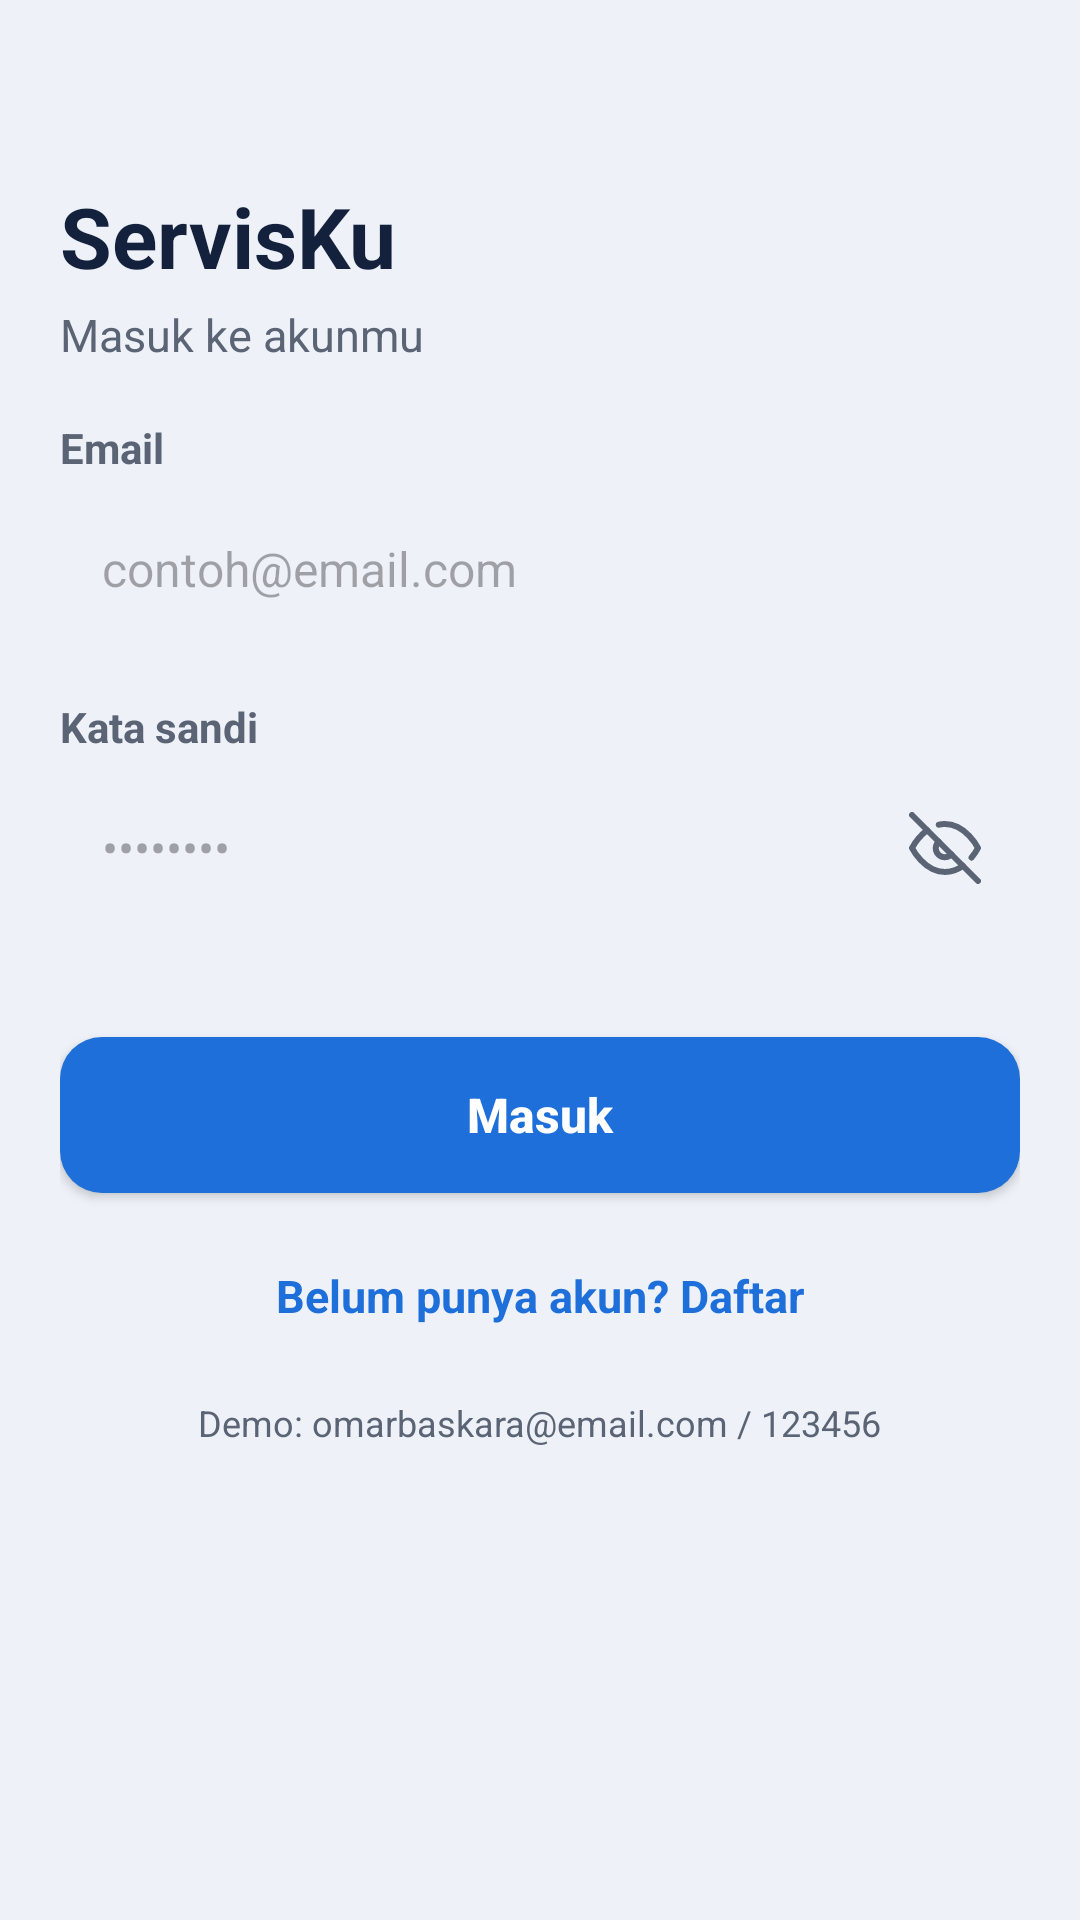

Where to tap for icons on this 1080px×1920px app screen, as [x,y]:
Tampilkan Kata Sandi: [945,848]
